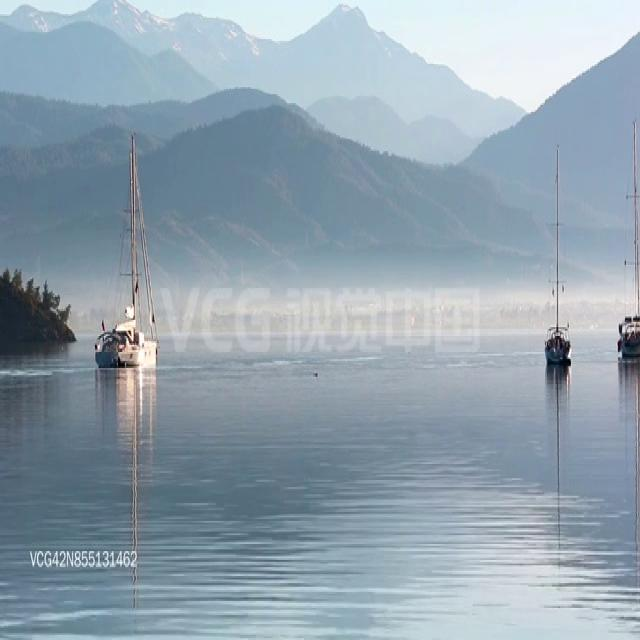sailboat: (94, 129, 161, 371), (542, 138, 572, 368), (617, 112, 640, 367)
